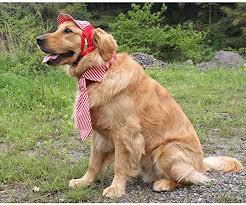dog: (31, 11, 224, 192)
